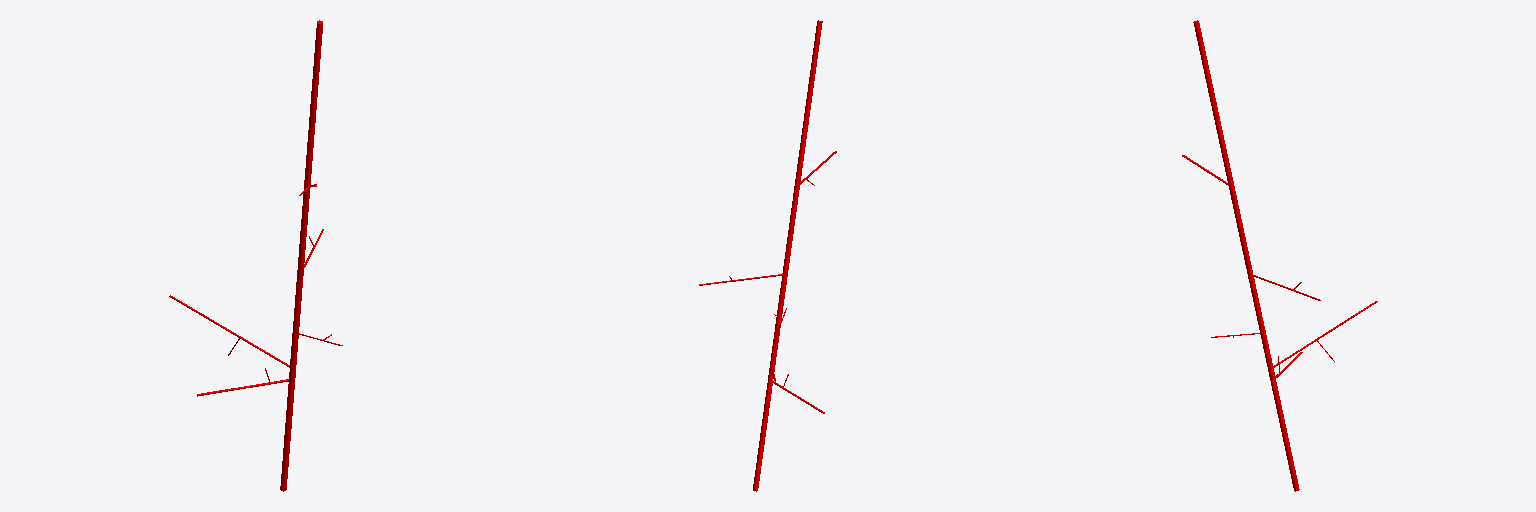
The robot description file, URDF, robot "tree_159.urdf":
<?xml version='1.0' encoding='UTF-8'?>
<robot name="tree_159.urdf">
  <link name="branch_0">
    <inertial>
      <origin xyz="0.0 0.0 0.0" rpy="0.0 -0.0 0.0"/>
      <mass value="0.1"/>
      <inertia ixx="0.001" ixy="0.0" ixz="0.0" iyy="0.001" iyz="0.0" izz="0.001"/>
    </inertial>
    <visual name="branch_0_visual">
      <geometry>
        <cylinder radius="0.05136090985274378" length="9.197676922468496"/>
      </geometry>
      <material name="semantic_material"/>
      <origin xyz="-0.17875038740898028 -0.8935945154685013 4.507643767363738" rpy="6.938893903907228e-18 0.19947845609188566 -1.76822576462234"/>
    </visual>
    <collision name="branch_0_collision">
      <geometry>
        <cylinder radius="0.05136090985274378" length="9.197676922468496"/>
      </geometry>
      <origin xyz="-0.17875038740898028 -0.8935945154685013 4.507643767363738" rpy="6.938893903907228e-18 0.19947845609188566 -1.76822576462234"/>
    </collision>
  </link>
  <link name="branch_1">
    <inertial>
      <origin xyz="0.0 0.0 0.0" rpy="0.0 -0.0 0.0"/>
      <mass value="0.1"/>
      <inertia ixx="0.001" ixy="0.0" ixz="0.0" iyy="0.001" iyz="0.0" izz="0.001"/>
    </inertial>
    <visual name="branch_1_visual">
      <geometry>
        <cylinder radius="0.01941208405440585" length="1.544524003276647"/>
      </geometry>
      <material name="semantic_material"/>
      <origin xyz="0.0 0.0 0.0" rpy="0.0 -0.0 0.0"/>
    </visual>
    <collision name="branch_1_collision">
      <geometry>
        <cylinder radius="0.01941208405440585" length="1.544524003276647"/>
      </geometry>
      <origin xyz="0.0 0.0 0.0" rpy="0.0 -0.0 0.0"/>
    </collision>
  </link>
  <link name="branch_2">
    <inertial>
      <origin xyz="0.0 0.0 0.0" rpy="0.0 -0.0 0.0"/>
      <mass value="0.1"/>
      <inertia ixx="0.001" ixy="0.0" ixz="0.0" iyy="0.001" iyz="0.0" izz="0.001"/>
    </inertial>
    <visual name="branch_2_visual">
      <geometry>
        <cylinder radius="0.01" length="0.31124771860384637"/>
      </geometry>
      <material name="semantic_material"/>
      <origin xyz="0.0 0.0 0.0" rpy="0.0 -0.0 0.0"/>
    </visual>
    <collision name="branch_2_collision">
      <geometry>
        <cylinder radius="0.01" length="0.31124771860384637"/>
      </geometry>
      <origin xyz="0.0 0.0 0.0" rpy="0.0 -0.0 0.0"/>
    </collision>
  </link>
  <link name="branch_3">
    <inertial>
      <origin xyz="0.0 0.0 0.0" rpy="0.0 -0.0 0.0"/>
      <mass value="0.1"/>
      <inertia ixx="0.001" ixy="0.0" ixz="0.0" iyy="0.001" iyz="0.0" izz="0.001"/>
    </inertial>
    <visual name="branch_3_visual">
      <geometry>
        <cylinder radius="0.02000550123880752" length="1.041227123423045"/>
      </geometry>
      <material name="semantic_material"/>
      <origin xyz="0.0 0.0 0.0" rpy="0.0 -0.0 0.0"/>
    </visual>
    <collision name="branch_3_collision">
      <geometry>
        <cylinder radius="0.02000550123880752" length="1.041227123423045"/>
      </geometry>
      <origin xyz="0.0 0.0 0.0" rpy="0.0 -0.0 0.0"/>
    </collision>
  </link>
  <link name="branch_4">
    <inertial>
      <origin xyz="0.0 0.0 0.0" rpy="0.0 -0.0 0.0"/>
      <mass value="0.1"/>
      <inertia ixx="0.001" ixy="0.0" ixz="0.0" iyy="0.001" iyz="0.0" izz="0.001"/>
    </inertial>
    <visual name="branch_4_visual">
      <geometry>
        <cylinder radius="0.01" length="0.2155321827999808"/>
      </geometry>
      <material name="semantic_material"/>
      <origin xyz="0.0 0.0 0.0" rpy="0.0 -0.0 0.0"/>
    </visual>
    <collision name="branch_4_collision">
      <geometry>
        <cylinder radius="0.01" length="0.2155321827999808"/>
      </geometry>
      <origin xyz="0.0 0.0 0.0" rpy="0.0 -0.0 0.0"/>
    </collision>
  </link>
  <link name="branch_5">
    <inertial>
      <origin xyz="0.0 0.0 0.0" rpy="0.0 -0.0 0.0"/>
      <mass value="0.1"/>
      <inertia ixx="0.001" ixy="0.0" ixz="0.0" iyy="0.001" iyz="0.0" izz="0.001"/>
    </inertial>
    <visual name="branch_5_visual">
      <geometry>
        <cylinder radius="0.017455684898244932" length="2.359684377465036"/>
      </geometry>
      <material name="semantic_material"/>
      <origin xyz="0.0 0.0 0.0" rpy="0.0 -0.0 0.0"/>
    </visual>
    <collision name="branch_5_collision">
      <geometry>
        <cylinder radius="0.017455684898244932" length="2.359684377465036"/>
      </geometry>
      <origin xyz="0.0 0.0 0.0" rpy="0.0 -0.0 0.0"/>
    </collision>
  </link>
  <link name="branch_6">
    <inertial>
      <origin xyz="0.0 0.0 0.0" rpy="0.0 -0.0 0.0"/>
      <mass value="0.1"/>
      <inertia ixx="0.001" ixy="0.0" ixz="0.0" iyy="0.001" iyz="0.0" izz="0.001"/>
    </inertial>
    <visual name="branch_6_visual">
      <geometry>
        <cylinder radius="0.01" length="0.5472390939210277"/>
      </geometry>
      <material name="semantic_material"/>
      <origin xyz="0.0 0.0 0.0" rpy="0.0 -0.0 0.0"/>
    </visual>
    <collision name="branch_6_collision">
      <geometry>
        <cylinder radius="0.01" length="0.5472390939210277"/>
      </geometry>
      <origin xyz="0.0 0.0 0.0" rpy="0.0 -0.0 0.0"/>
    </collision>
  </link>
  <link name="branch_7">
    <inertial>
      <origin xyz="0.0 0.0 0.0" rpy="0.0 -0.0 0.0"/>
      <mass value="0.1"/>
      <inertia ixx="0.001" ixy="0.0" ixz="0.0" iyy="0.001" iyz="0.0" izz="0.001"/>
    </inertial>
    <visual name="branch_7_visual">
      <geometry>
        <cylinder radius="0.01564412349336731" length="1.685308573326194"/>
      </geometry>
      <material name="semantic_material"/>
      <origin xyz="0.0 0.0 0.0" rpy="0.0 -0.0 0.0"/>
    </visual>
    <collision name="branch_7_collision">
      <geometry>
        <cylinder radius="0.01564412349336731" length="1.685308573326194"/>
      </geometry>
      <origin xyz="0.0 0.0 0.0" rpy="0.0 -0.0 0.0"/>
    </collision>
  </link>
  <link name="branch_8">
    <inertial>
      <origin xyz="0.0 0.0 0.0" rpy="0.0 -0.0 0.0"/>
      <mass value="0.1"/>
      <inertia ixx="0.001" ixy="0.0" ixz="0.0" iyy="0.001" iyz="0.0" izz="0.001"/>
    </inertial>
    <visual name="branch_8_visual">
      <geometry>
        <cylinder radius="0.01" length="0.2090889694615884"/>
      </geometry>
      <material name="semantic_material"/>
      <origin xyz="0.0 0.0 0.0" rpy="0.0 -0.0 0.0"/>
    </visual>
    <collision name="branch_8_collision">
      <geometry>
        <cylinder radius="0.01" length="0.2090889694615884"/>
      </geometry>
      <origin xyz="0.0 0.0 0.0" rpy="0.0 -0.0 0.0"/>
    </collision>
  </link>
  <link name="branch_9">
    <inertial>
      <origin xyz="0.0 0.0 0.0" rpy="0.0 -0.0 0.0"/>
      <mass value="0.1"/>
      <inertia ixx="0.001" ixy="0.0" ixz="0.0" iyy="0.001" iyz="0.0" izz="0.001"/>
    </inertial>
    <visual name="branch_9_visual">
      <geometry>
        <cylinder radius="0.010896702735115475" length="0.9768891745504474"/>
      </geometry>
      <material name="semantic_material"/>
      <origin xyz="0.0 0.0 0.0" rpy="0.0 -0.0 0.0"/>
    </visual>
    <collision name="branch_9_collision">
      <geometry>
        <cylinder radius="0.010896702735115475" length="0.9768891745504474"/>
      </geometry>
      <origin xyz="0.0 0.0 0.0" rpy="0.0 -0.0 0.0"/>
    </collision>
  </link>
  <link name="branch_10">
    <inertial>
      <origin xyz="0.0 0.0 0.0" rpy="0.0 -0.0 0.0"/>
      <mass value="0.1"/>
      <inertia ixx="0.001" ixy="0.0" ixz="0.0" iyy="0.001" iyz="0.0" izz="0.001"/>
    </inertial>
    <visual name="branch_10_visual">
      <geometry>
        <cylinder radius="0.01" length="0.1862893892775537"/>
      </geometry>
      <material name="semantic_material"/>
      <origin xyz="0.0 0.0 0.0" rpy="0.0 -0.0 0.0"/>
    </visual>
    <collision name="branch_10_collision">
      <geometry>
        <cylinder radius="0.01" length="0.1862893892775537"/>
      </geometry>
      <origin xyz="0.0 0.0 0.0" rpy="0.0 -0.0 0.0"/>
    </collision>
  </link>
  <joint name="joint_0_1" type="fixed">
    <parent link="branch_0"/>
    <child link="branch_1"/>
    <axis xyz="1. 0. 0."/>
    <origin xyz="-0.8105837543736869 -0.16758851628679278 2.0499936559825858" rpy="-1.996918252544379 1.3529379860470394 0.8191595941593871"/>
  </joint>
  <joint name="joint_0_3" type="fixed">
    <parent link="branch_0"/>
    <child link="branch_3"/>
    <axis xyz="1. 0. 0."/>
    <origin xyz="-0.4030451189929385 -1.5946198503277427 6.07044620568348" rpy="-0.0900025430543956 1.1180751685258261 -2.0450728496474553"/>
  </joint>
  <joint name="joint_0_5" type="fixed">
    <parent link="branch_0"/>
    <child link="branch_5"/>
    <axis xyz="1. 0. 0."/>
    <origin xyz="-0.676462189717002 0.4844754521150415 2.7272357195491623" rpy="-0.3723903145528202 1.206318692785154 1.7270648377113864"/>
  </joint>
  <joint name="joint_0_7" type="fixed">
    <parent link="branch_0"/>
    <child link="branch_7"/>
    <axis xyz="1. 0. 0."/>
    <origin xyz="0.40390595465384177 -0.20127951713825332 4.160899064508359" rpy="1.4728159400488083 1.4663546549501907 2.303494346380763"/>
  </joint>
  <joint name="joint_0_9" type="fixed">
    <parent link="branch_0"/>
    <child link="branch_9"/>
    <axis xyz="1. 0. 0."/>
    <origin xyz="0.041580643877752045 -1.0588498127035493 3.056243941379012" rpy="0.9788953111672637 1.4453966887881446 -0.2505818126245433"/>
  </joint>
  <joint name="joint_1_2" type="fixed">
    <parent link="branch_0"/>
    <child link="branch_2"/>
    <axis xyz="1. 0. 0."/>
    <origin xyz="-0.47126505658668555 -0.3153211085040773 2.2337886127670314" rpy="0.19231837903356253 -0.279757064018638 -0.37139946229993737"/>
  </joint>
  <joint name="joint_3_4" type="fixed">
    <parent link="branch_0"/>
    <child link="branch_4"/>
    <axis xyz="1. 0. 0."/>
    <origin xyz="-0.3977062513818938 -1.3592044332119757 5.886269513466708" rpy="-2.222560280926951 0.5358708295771066 1.315853401960572"/>
  </joint>
  <joint name="joint_5_6" type="fixed">
    <parent link="branch_0"/>
    <child link="branch_6"/>
    <axis xyz="1. 0. 0."/>
    <origin xyz="-0.6122605154272278 0.5072581749616402 2.4491947440415873" rpy="-2.857837468098622 0.5666437370972578 -0.9489194692780966"/>
  </joint>
  <joint name="joint_7_8" type="fixed">
    <parent link="branch_0"/>
    <child link="branch_8"/>
    <axis xyz="1. 0. 0."/>
    <origin xyz="0.5186701470393457 0.004953166571805422 4.23801240084421" rpy="0.6855045283061563 -0.37647116941083214 -2.610934355951251"/>
  </joint>
  <joint name="joint_9_10" type="fixed">
    <parent link="branch_0"/>
    <child link="branch_10"/>
    <axis xyz="1. 0. 0."/>
    <origin xyz="0.15684276868690197 -1.125585982897476 3.088132091008657" rpy="1.2841314881943686 -0.0018679237398993615 1.662552667619701"/>
  </joint>
  <material name="semantic_material">
    <color rgba="1. 0. 0. 1."/>
  </material>
</robot>

--- Render facts (derived) ---
The picture shows the robot from 3 angles, left to right: view 1: azimuth 30°, elevation 25°; view 2: azimuth 150°, elevation 25°; view 3: azimuth 270°, elevation 25°; orthographic projection.
Robot: tree_159.urdf — 11 links, 10 joints (10 fixed); root link branch_0; default pose: all joints at 0.
Links seen in each view (by area): view 1: branch_0; view 2: branch_0; view 3: branch_0.
Link boxes in pixels (left/top/right/bottom): branch_0: left=280, top=20, right=322, bottom=491; branch_0: left=753, top=20, right=822, bottom=491; branch_0: left=1193, top=20, right=1299, bottom=491.
Size in the robot's own frame: 2.53 by 3.48 by 9.04 metres.
Geometry: primitives only (box / cylinder / sphere), no mesh files.
